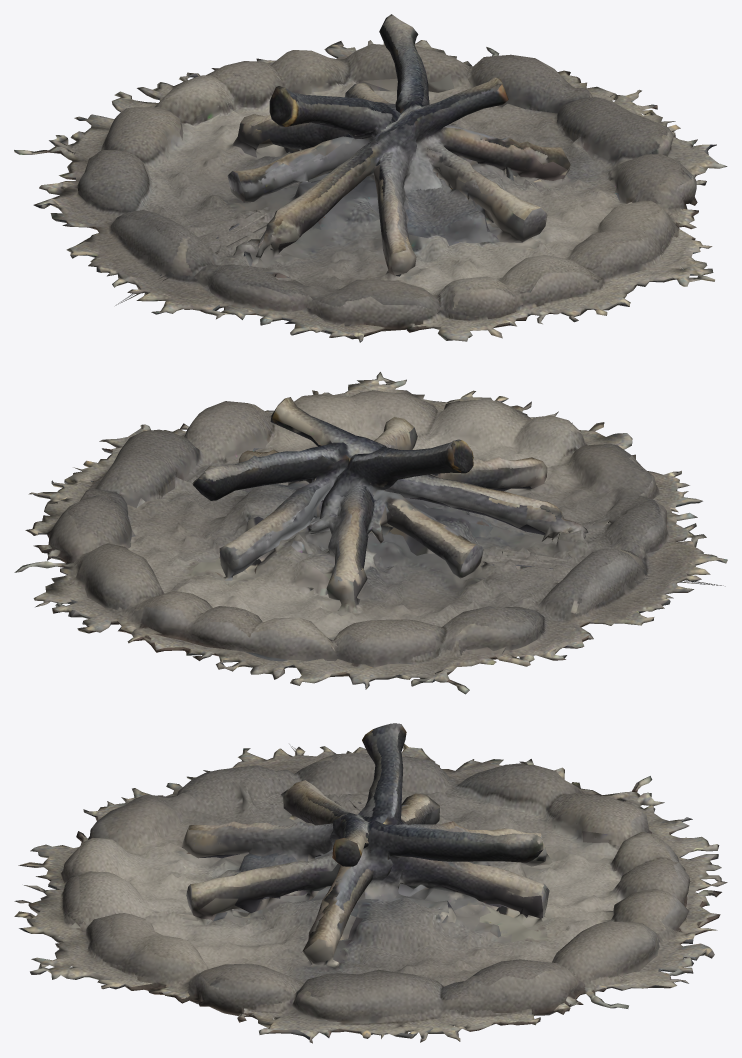
File: fogon.glb
3 views of the same model, one above another, from view 1: azimuth 30°, elevation 25°; view 2: azimuth 150°, elevation 25°; view 3: azimuth 270°, elevation 25° (orthographic).
Visible parts, largest first — view 1: temp_mesh.ply; view 2: temp_mesh.ply; view 3: temp_mesh.ply.
Boxes of the visible parts, bbox=[...] form: temp_mesh.ply: bbox=[14, 14, 727, 342]; temp_mesh.ply: bbox=[14, 372, 727, 694]; temp_mesh.ply: bbox=[14, 723, 727, 1043].
Size of the model in its own units: 1.3 by 0.2846 by 1.29.
Materials: 1 (1 with a texture image).
